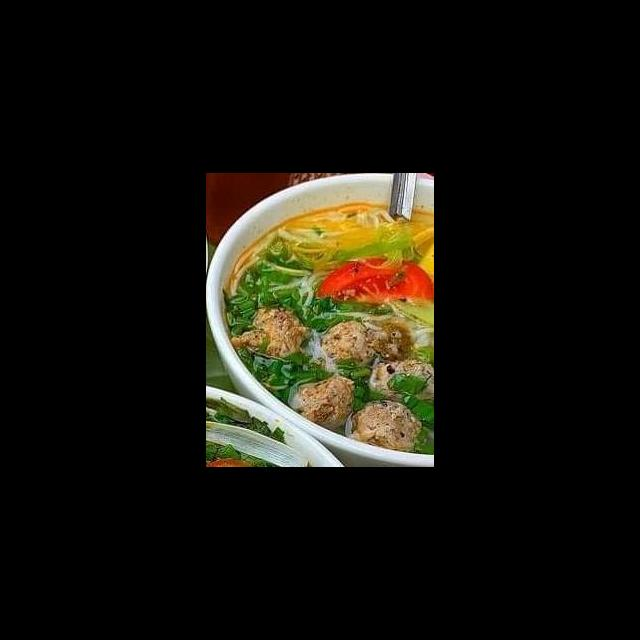vien moc: (342, 397, 431, 454), (229, 306, 314, 364), (290, 369, 360, 432), (318, 317, 383, 371), (367, 356, 434, 407)
